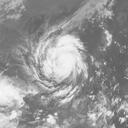cyclone: (42, 35, 84, 83)
